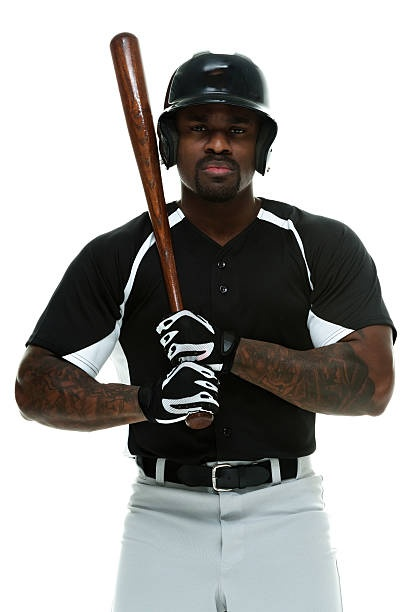bita: (106, 25, 191, 315)
